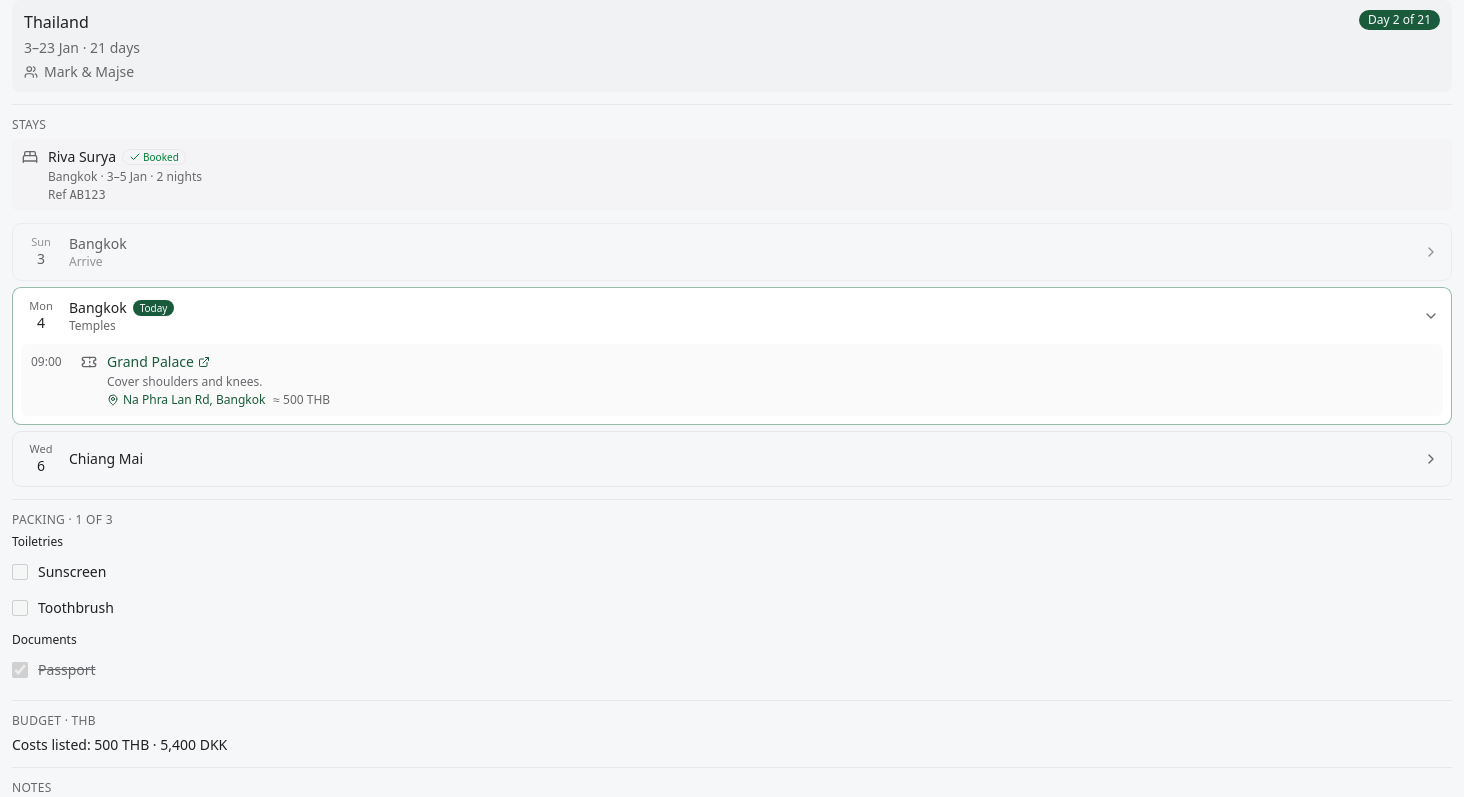
Test: TripView › opens today's day during the trip and folds the others
Expected: the text "Day 2 of 21" is shown, [1359, 10, 1440, 30]
Expected: the list item that starts with "Mon" shows "Today", [13, 288, 1451, 344]
Click the button "Sun 3 Bangkok Arrive": [98, 244] box [13, 224, 1451, 280]
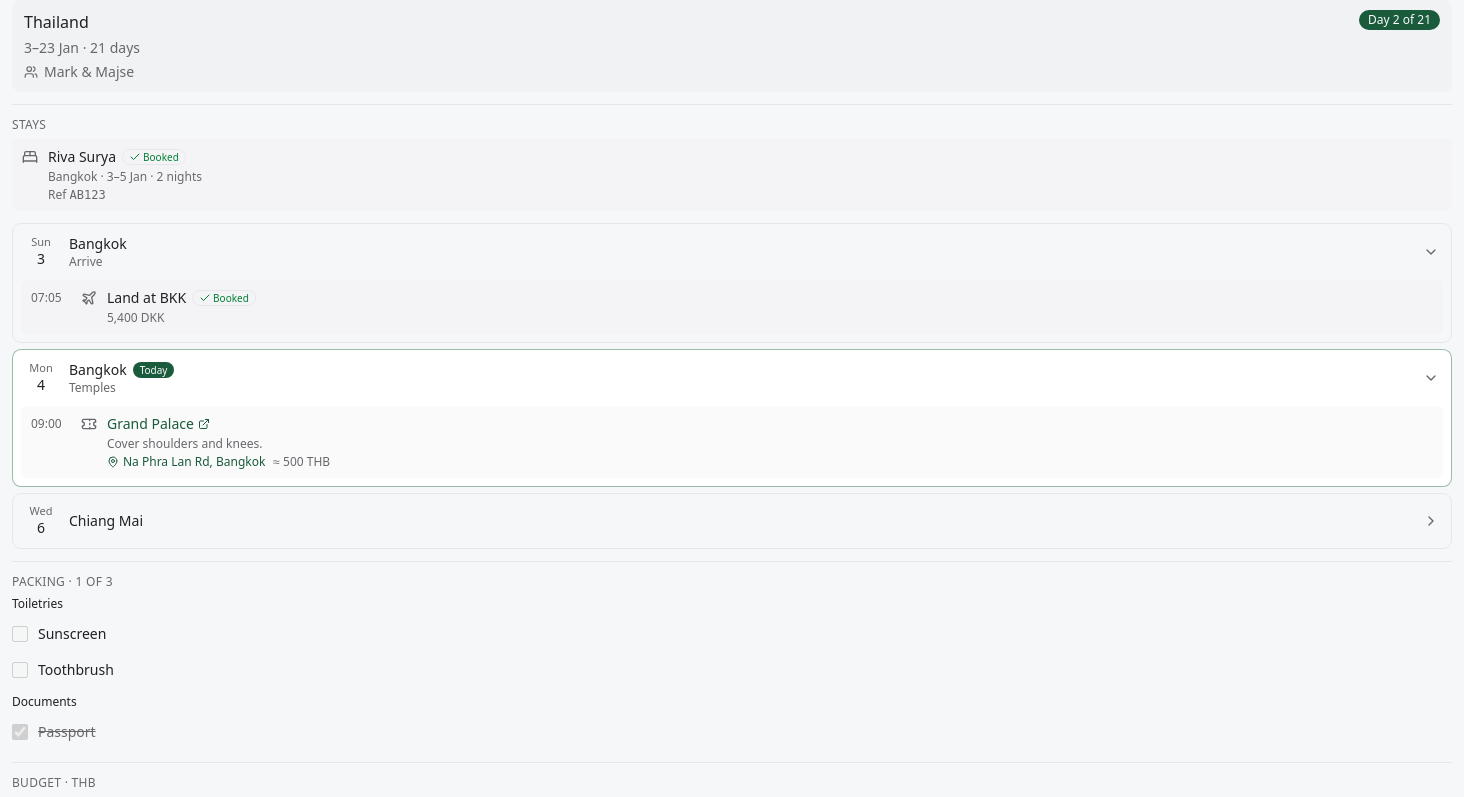
Expected: the text "Land at BKK" is shown, [107, 288, 186, 307]
